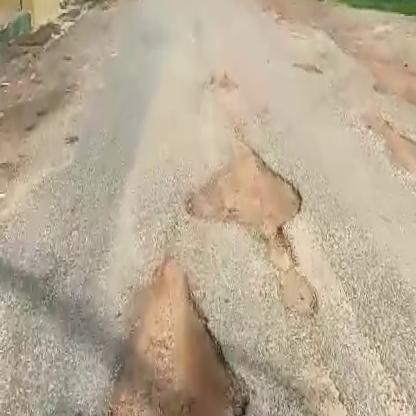pothole: (100, 261, 246, 416), (183, 143, 308, 244)
